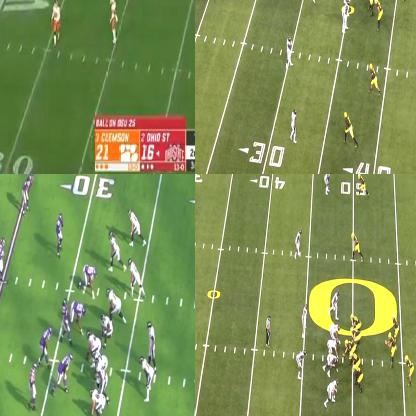CENTER: (87, 329, 103, 358), (342, 340, 356, 360)
DB: (108, 0, 120, 45), (20, 174, 33, 209), (29, 362, 39, 406), (0, 237, 8, 281), (290, 107, 298, 142), (295, 230, 302, 258), (286, 36, 292, 68), (323, 174, 332, 194)
LB: (51, 0, 64, 47), (40, 329, 53, 357), (61, 299, 71, 335), (56, 214, 64, 254), (326, 379, 338, 404), (301, 304, 309, 337), (342, 0, 351, 29), (295, 351, 306, 374), (330, 290, 338, 317)
QB: (384, 331, 398, 366), (146, 320, 156, 366)
SKILL: (344, 112, 358, 149), (128, 260, 142, 296), (88, 386, 105, 415), (130, 207, 144, 240), (142, 357, 153, 399), (351, 233, 364, 262), (110, 232, 119, 270), (404, 355, 414, 387), (370, 64, 379, 96), (358, 174, 369, 197), (374, 0, 384, 23), (392, 314, 400, 339)
